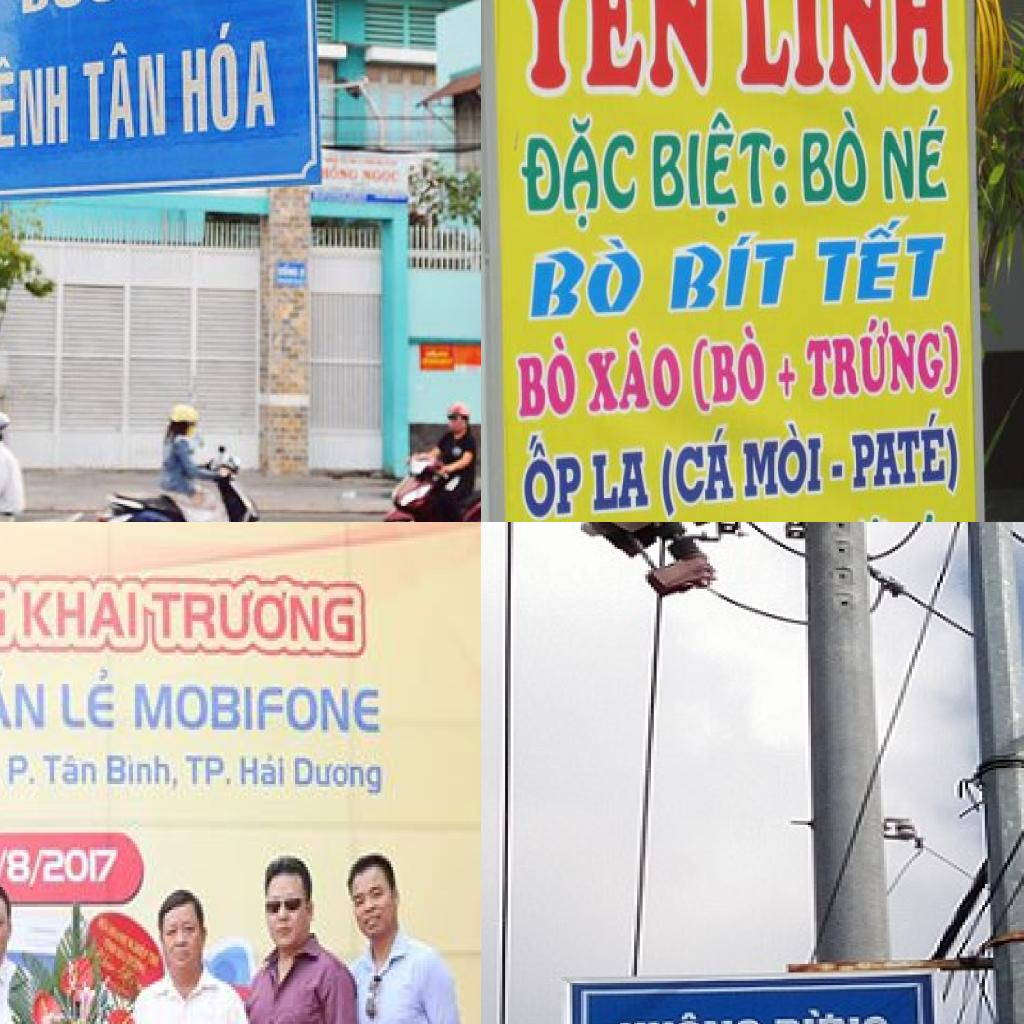text: (505, 0, 717, 95), (734, 0, 951, 92), (648, 107, 790, 232), (804, 310, 966, 411), (150, 578, 361, 653), (517, 110, 640, 237), (133, 676, 382, 738), (172, 13, 284, 137), (810, 213, 951, 307), (70, 32, 172, 145), (848, 408, 964, 506), (667, 230, 802, 314), (526, 234, 645, 322), (16, 578, 142, 653), (584, 326, 684, 416), (0, 47, 75, 154), (658, 422, 738, 522), (688, 321, 772, 416), (880, 104, 951, 206), (800, 105, 870, 208), (741, 420, 825, 502), (0, 841, 122, 892), (516, 331, 582, 421), (522, 427, 584, 522), (293, 750, 391, 801), (588, 447, 654, 517), (61, 661, 120, 733), (0, 666, 50, 738), (105, 747, 182, 790), (612, 1003, 769, 1024), (41, 747, 103, 790), (766, 1004, 895, 1024), (182, 752, 237, 790), (238, 750, 288, 790), (5, 750, 41, 792), (775, 353, 801, 406)
